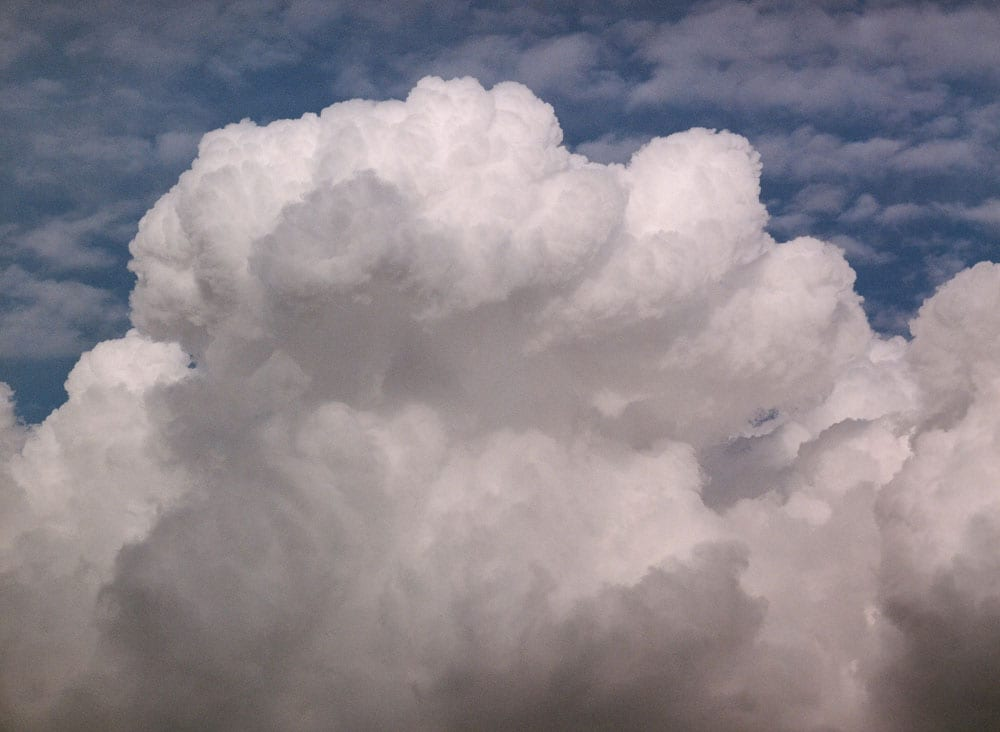Cumulus: (25, 320, 989, 732), (122, 75, 912, 453)
